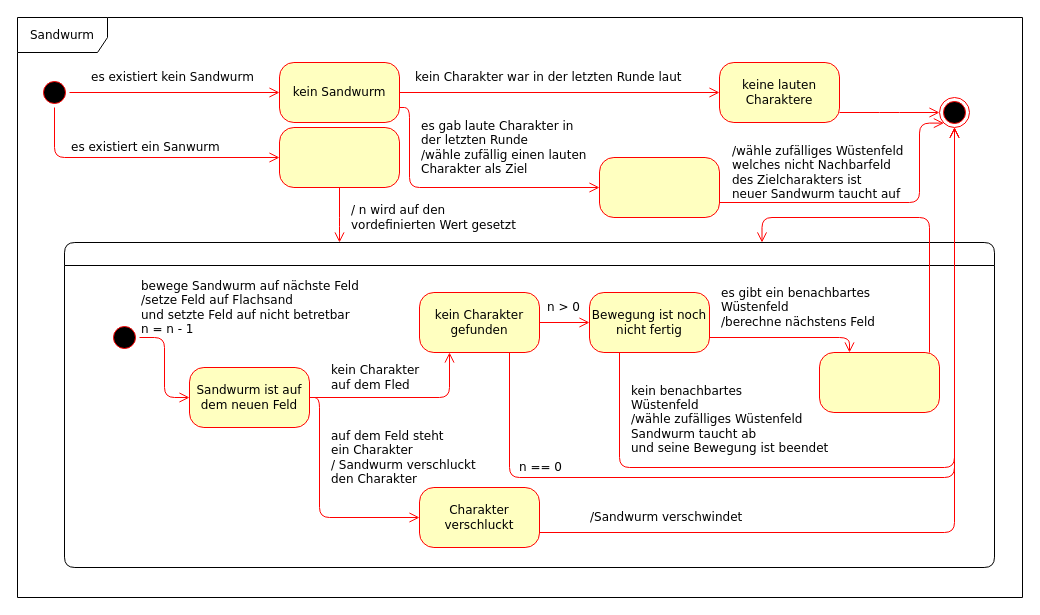
Some shapes in this 1040 by 615 pixel diagram are drawn without their labels. Here are the shapes that lost their labels. From the top down, the box of each, then its label:
(278, 126, 400, 188): ein Sandwurm ist auf dem Spielfeld
(598, 156, 720, 218): Zielcharakter gefunden
(818, 352, 940, 412): neues Feld gefunden
(64, 242, 994, 568): Sandwurm bewegt sich
